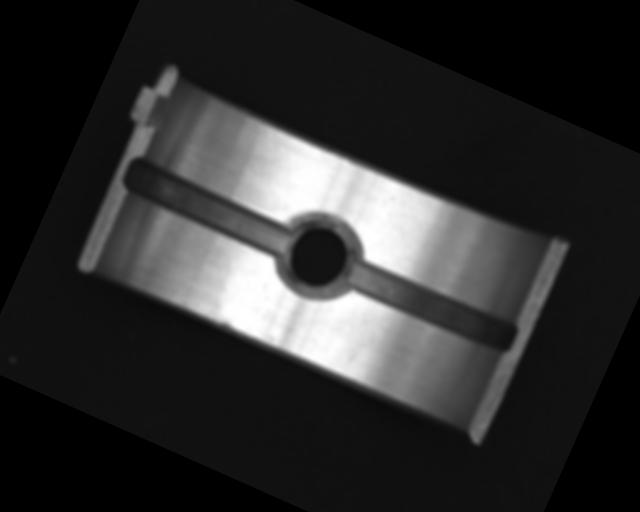gap: (338, 249, 523, 360), (117, 154, 297, 262)
hole: (267, 203, 372, 311)
